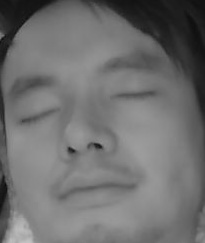blink: (112, 87, 154, 107), (20, 107, 59, 124)
mouth: (51, 165, 138, 209)
